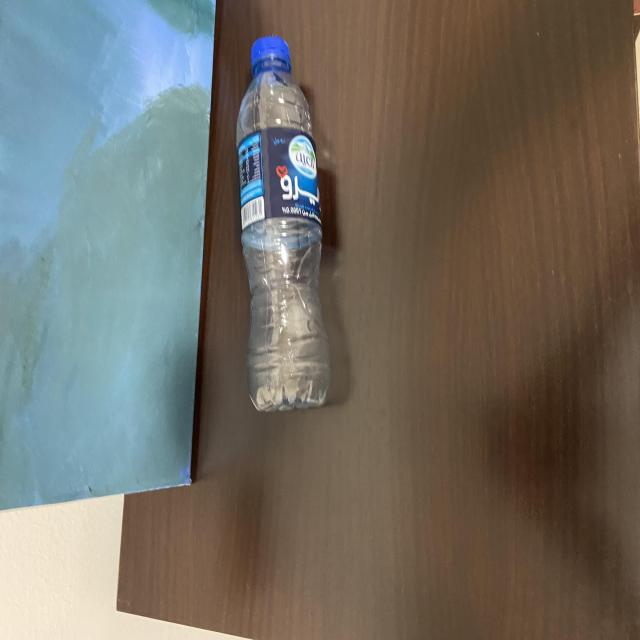bottle: (230, 30, 334, 424)
